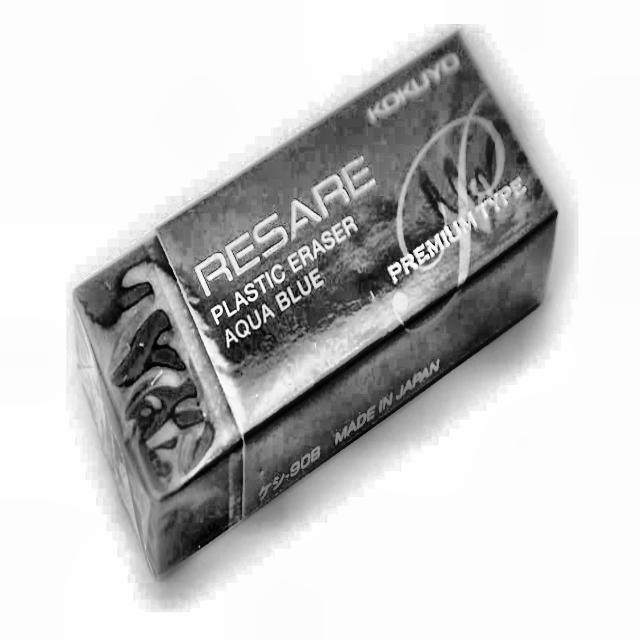eraser: (69, 24, 562, 584)
